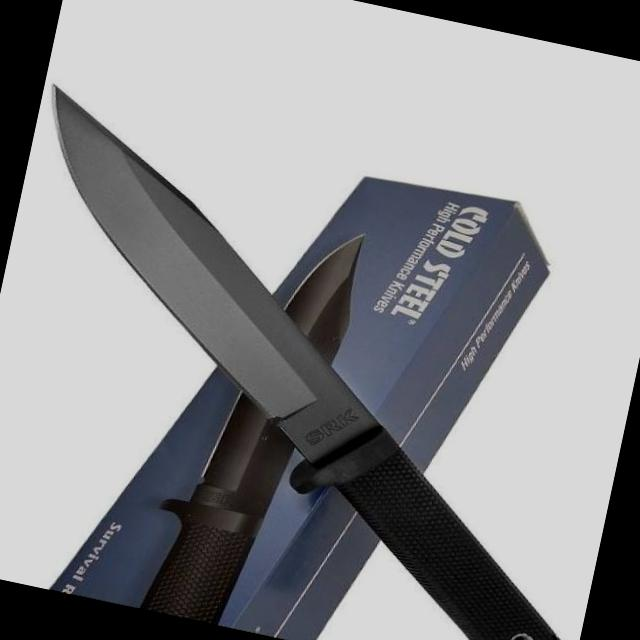knife: (0, 75, 455, 484)
